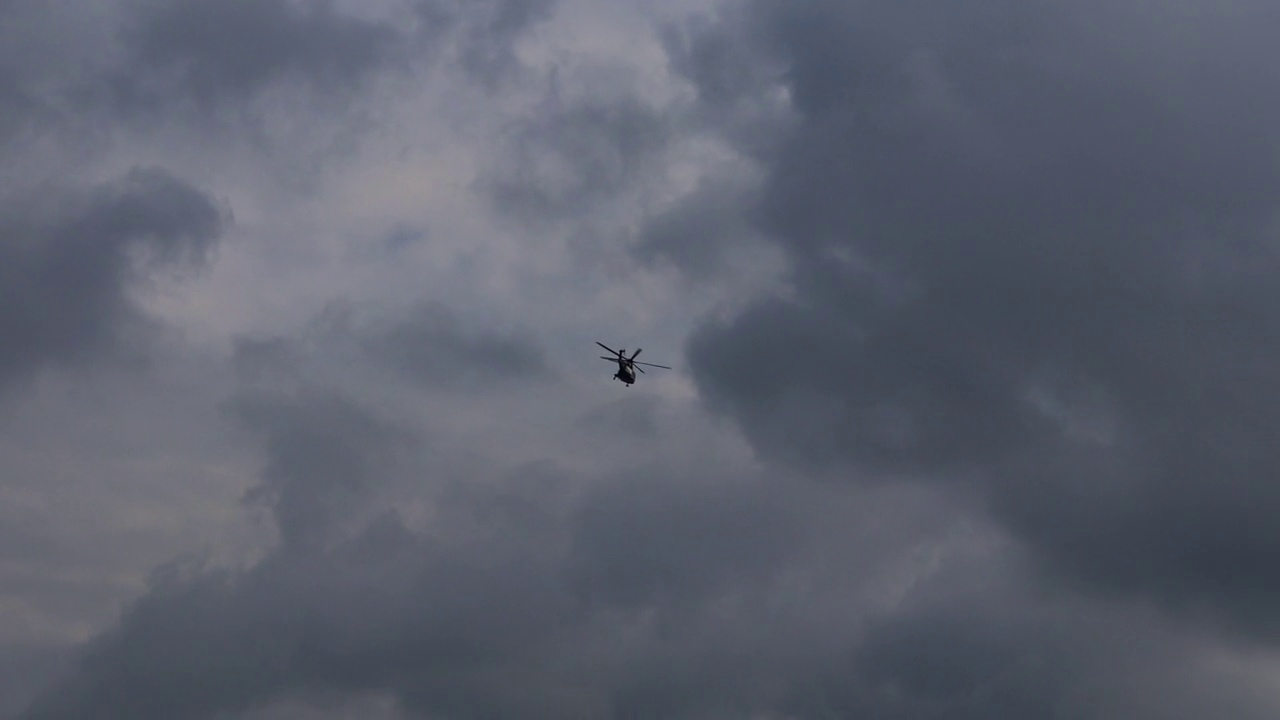heli: (594, 339, 672, 387)
